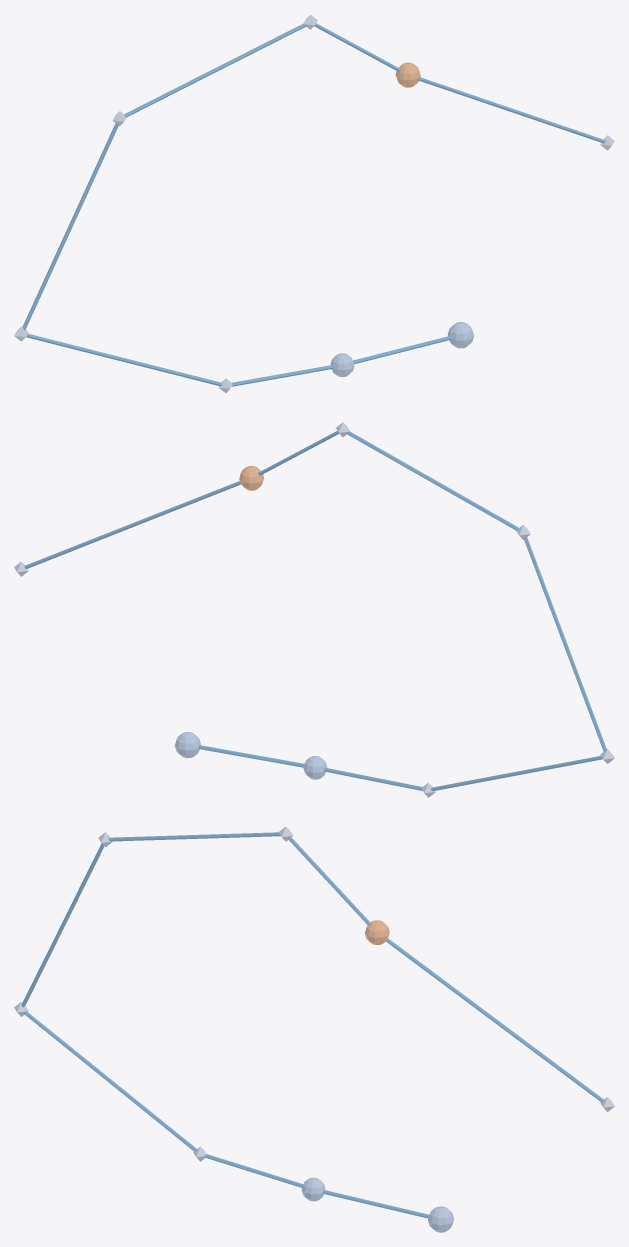
File: constellation-vel.glb
3 views of the same model, one above another, from view 1: azimuth 30°, elevation 25°; view 2: azimuth 150°, elevation 25°; view 3: azimuth 330°, elevation 25° (orthographic).
Bounding box in the file's own units: 2.75 × 1.62 × 0.2092.
